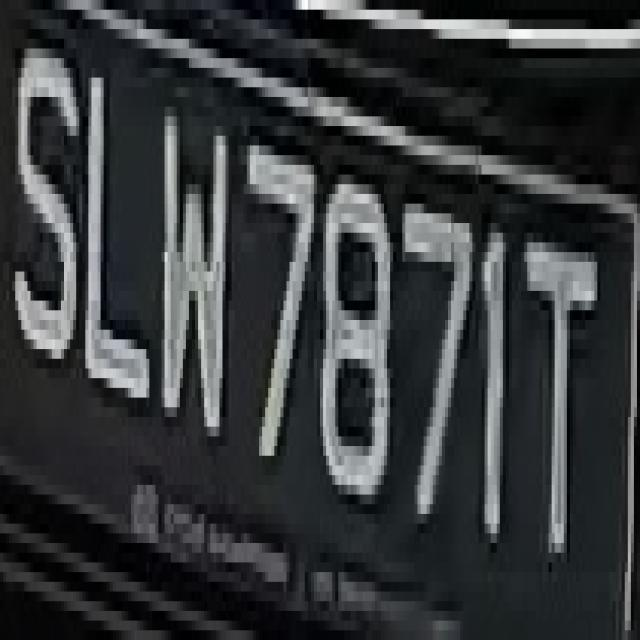1: (472, 194, 512, 572)
7: (390, 165, 472, 543), (247, 107, 323, 494)
8: (314, 146, 402, 524)
L: (82, 10, 158, 436)
S: (15, 0, 79, 388)
T: (515, 194, 607, 591)
W: (155, 87, 238, 475)
